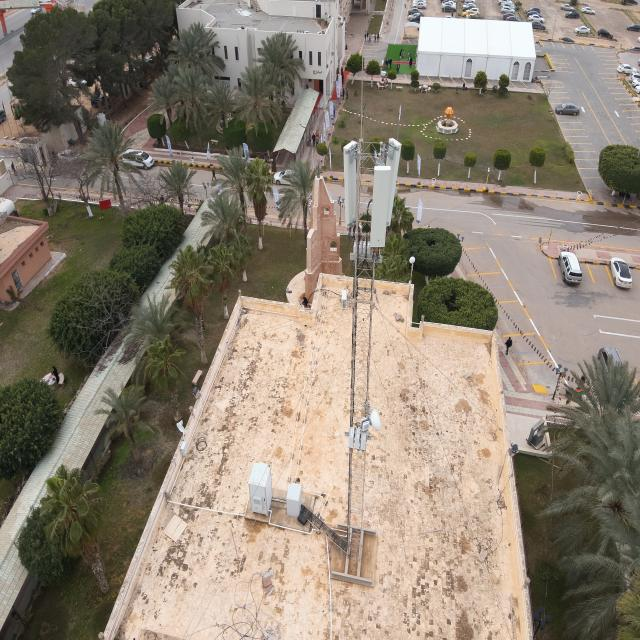antenna: (382, 136, 403, 228), (369, 165, 391, 248), (342, 140, 359, 228)
lighnig-rad: (360, 51, 364, 142)
microware-dish: (359, 409, 383, 431)
power-box: (349, 426, 367, 452)
radio-unit: (352, 240, 384, 257)
